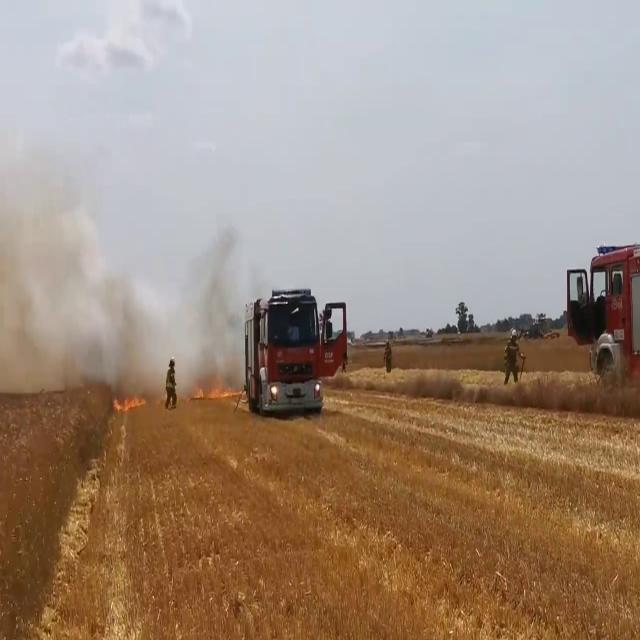Fire: (191, 371, 243, 405), (112, 383, 148, 415)
Smoke: (0, 36, 159, 407), (181, 212, 251, 395)
